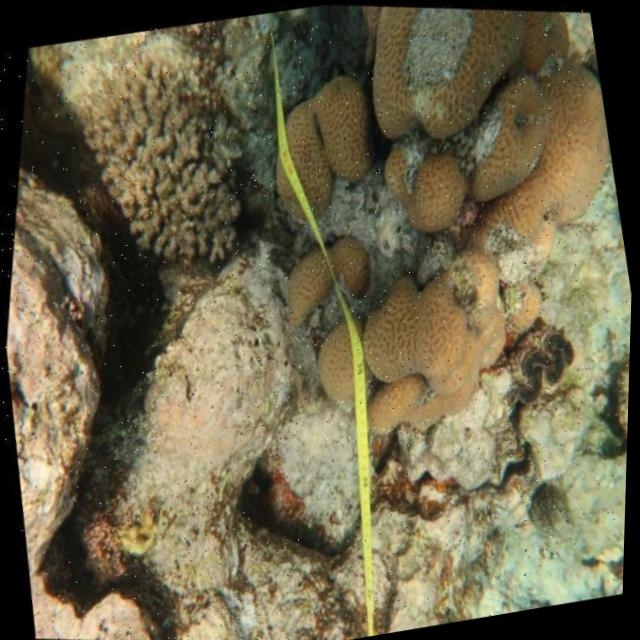Healthy Coral: (240, 41, 400, 237), (256, 209, 395, 353)
